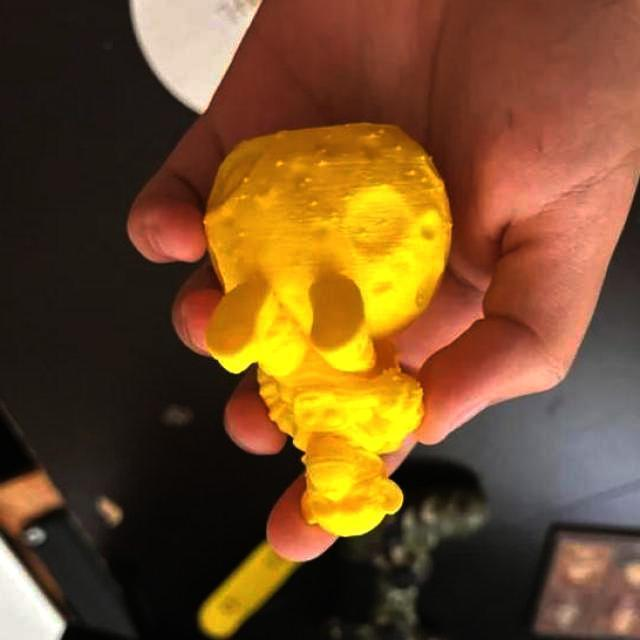zits: (355, 228, 370, 244), (324, 210, 338, 224), (403, 166, 417, 180), (416, 152, 430, 166), (314, 158, 329, 170), (392, 142, 404, 156), (339, 192, 352, 204), (301, 174, 313, 186), (272, 158, 284, 168), (238, 192, 250, 202), (418, 174, 430, 184), (238, 228, 246, 242), (310, 196, 318, 208), (297, 181, 307, 190), (240, 176, 250, 184)
